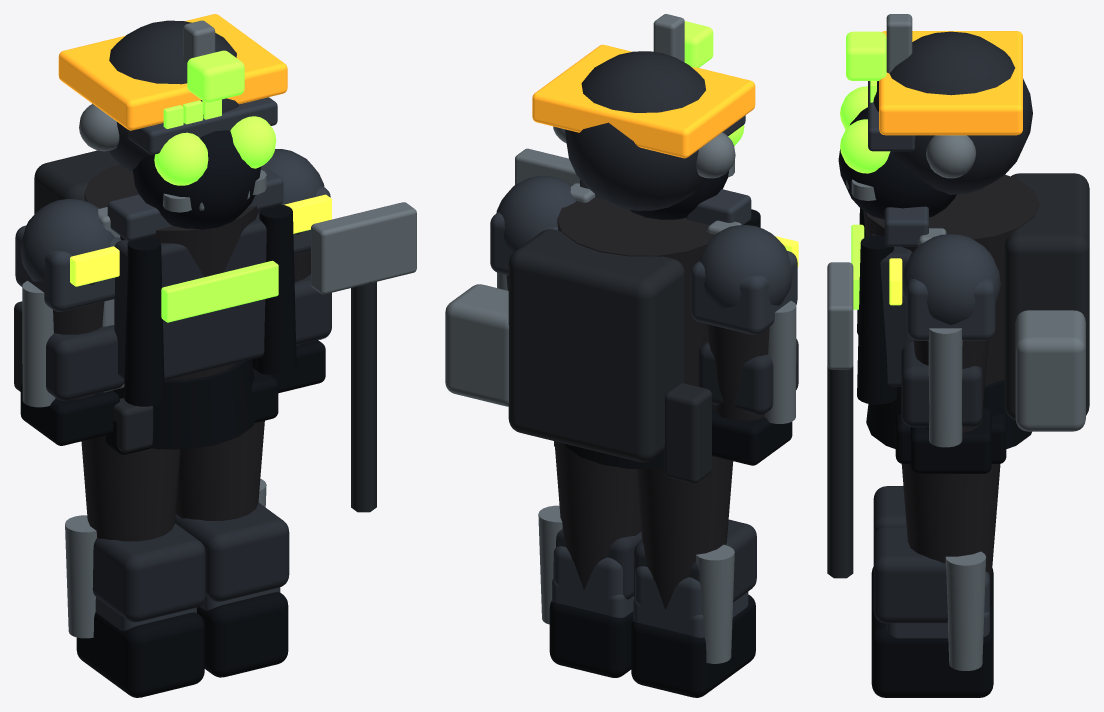
Rendered from engineer_l03.glb.
The picture shows the model from 3 angles, left to right: view 1: azimuth 30°, elevation 25°; view 2: azimuth 150°, elevation 25°; view 3: azimuth 270°, elevation 25°; orthographic projection. The views are drawn at different scales.
Visible parts, largest first — view 1: shaped_knee_guard (×2), trouser (×2), boot (×2), vest_tether (×2), segmented_vest, safety_helmet_band, axe_head, waist_flex, forearm_plate (×2), enclosed_mask, shoulder_joint (×2), axe_handle (+22 smaller); view 2: field_pack, trouser (×2), rounded_helmet, boot (×2), safety_helmet_band, shoulder_joint (×2), body, repair_canister, shin_frame (×2), knee_plate (×2), shoulder_plate (×2), tool_roll (+13 smaller); view 3: field_pack, rounded_helmet, repair_canister, safety_helmet_band, trouser, shaped_knee_guard (×2), body, boot, shoulder_joint, axe_handle, vest_tether, shin_frame (+21 smaller).
Boxes of the visible parts, x1,y1,x2,y2 form: shaped_knee_guard (×2): [92, 502, 289, 622]; trouser (×2): [81, 420, 264, 541]; boot (×2): [76, 592, 288, 697]; vest_tether (×2): [124, 204, 296, 406]; segmented_vest: [114, 210, 266, 380]; safety_helmet_band: [58, 14, 287, 130]; axe_head: [311, 202, 416, 294]; waist_flex: [113, 359, 255, 449]; forearm_plate (×2): [46, 274, 331, 400]; enclosed_mask: [133, 130, 261, 229]; shoulder_joint (×2): [20, 149, 324, 285]; axe_handle: [351, 281, 376, 512]; field_pack: [508, 229, 684, 462]; trouser (×2): [554, 441, 733, 609]; rounded_helmet: [564, 51, 722, 210]; boot (×2): [549, 594, 755, 697]; safety_helmet_band: [532, 44, 755, 158]; shoulder_joint (×2): [496, 176, 792, 308]; body: [557, 197, 713, 386]; repair_canister: [445, 284, 508, 406]; shin_frame (×2): [538, 505, 734, 663]; knee_plate (×2): [553, 546, 744, 622]; shoulder_plate (×2): [490, 212, 797, 334]; tool_roll: [664, 383, 711, 483]; field_pack: [1004, 173, 1089, 420]; rounded_helmet: [873, 31, 1032, 194]; repair_canister: [1015, 310, 1085, 431]; safety_helmet_band: [879, 31, 1022, 135]; trouser: [901, 464, 1000, 594]; shaped_knee_guard (×2): [873, 486, 947, 623]; body: [863, 174, 1039, 385]; boot: [871, 604, 993, 697]; shoulder_joint: [902, 234, 1000, 324]; axe_handle: [827, 365, 853, 578]; vest_tether: [857, 235, 897, 404]; shin_frame: [945, 551, 986, 670].
Bounding box in the file's own units: 1.04 × 1.93 × 0.71.
